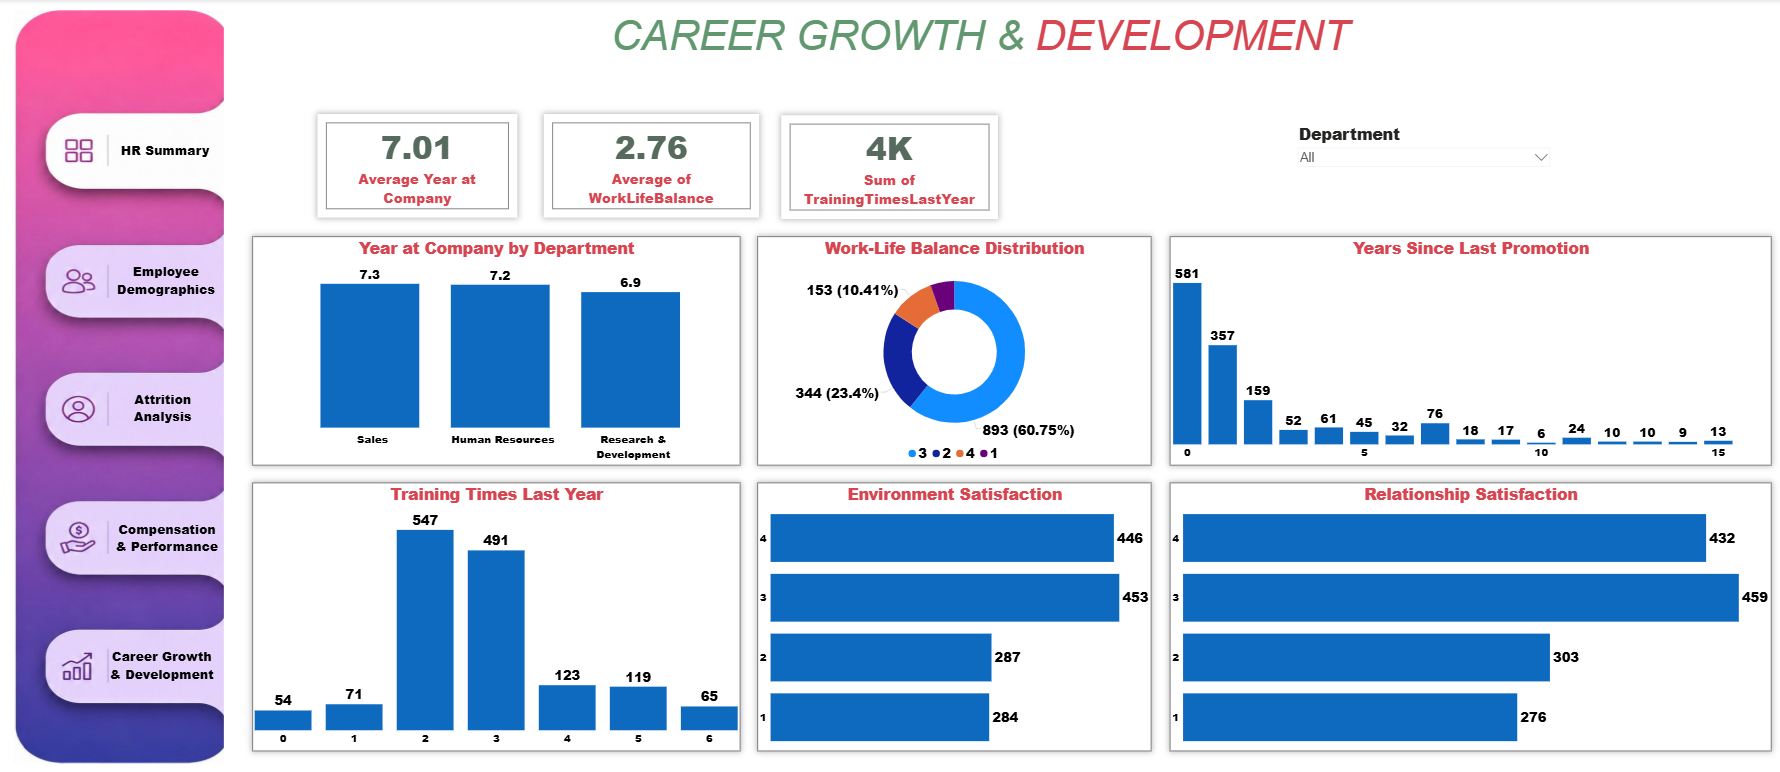

What the dashboard file says about the page in this screenshot:
{"tool":"powerbi","page":{"name":"Page 5","canvas":[4580,2000],"ordinal":4},"visuals":[{"type":"image","box":[36.7,29.4,540,1935.9],"z":0},{"type":"actionButton","box":[258.6,347.5,335.3,80.8],"z":1000},{"type":"actionButton","box":[258.6,662.6,339.4,121.2],"z":2000},{"type":"actionButton","box":[282.8,977.1,272,146.7],"z":3000},{"type":"actionButton","box":[282.8,1310,293.5,146.7],"z":4000},{"type":"textbox","box":[1179.1,28.9,2679.4,154.2],"z":5000},{"type":"actionButton","box":[269.9,1638.5,292.4,147.8],"z":6000},{"type":"cardVisual","fields":{"Data":["WA_Fn-UseC_-HR-Employee-Attrition.Average Year at Company"]},"box":[816.7,296.4,513.7,266.7],"z":7000},{"type":"cardVisual","fields":{"Data":["Avg(WA_Fn-UseC_-HR-Employee-Attrition.WorkLifeBalance)"]},"box":[1396.3,296.4,553.2,266.7],"z":8000},{"type":"cardVisual","fields":{"Data":["Sum(WA_Fn-UseC_-HR-Employee-Attrition.TrainingTimesLastYear)"]},"box":[2008.8,299.7,556.5,266.7],"z":9000},{"type":"clusteredColumnChart","title":"Year at Company by Department","fields":{"Category":["WA_Fn-UseC_-HR-Employee-Attrition.Department"],"Y":["WA_Fn-UseC_-HR-Employee-Attrition.Average Year at Company"]},"box":[648.8,611.4,1253.4,587.6],"z":10000},{"type":"donutChart","title":"Work-Life Balance Distribution","fields":{"Y":["CountNonNull(WA_Fn-UseC_-HR-Employee-Attrition.EmployeeCount)"],"Category":["WA_Fn-UseC_-HR-Employee-Attrition.WorkLifeBalance"]},"box":[1946.3,611.4,1012.2,587.6],"z":11000},{"type":"clusteredColumnChart","title":"Years Since Last Promotion","fields":{"Category":["WA_Fn-UseC_-HR-Employee-Attrition.YearsSinceLastPromotion"],"Y":["Sum(WA_Fn-UseC_-HR-Employee-Attrition.EmployeeCount)"]},"box":[3006.1,611.4,1545.5,587.6],"z":12000},{"type":"clusteredColumnChart","title":"Training Times Last Year","fields":{"Category":["WA_Fn-UseC_-HR-Employee-Attrition.TrainingTimesLastYear"],"Y":["Sum(WA_Fn-UseC_-HR-Employee-Attrition.EmployeeCount)"]},"box":[648.8,1243.2,1253.4,689.5],"z":13000},{"type":"barChart","title":"Environment Satisfaction","fields":{"Category":["WA_Fn-UseC_-HR-Employee-Attrition.EnvironmentSatisfaction"],"Y":["CountNonNull(WA_Fn-UseC_-HR-Employee-Attrition.EmployeeCount)"]},"box":[1946.3,1243.2,1012.2,689.5],"z":14000},{"type":"barChart","title":"Relationship Satisfaction","fields":{"Y":["CountNonNull(WA_Fn-UseC_-HR-Employee-Attrition.EmployeeCount)"],"Category":["WA_Fn-UseC_-HR-Employee-Attrition.RelationshipSatisfaction"]},"box":[3006.1,1243.2,1545.5,689.5],"z":15000},{"type":"slicer","fields":{"Values":["WA_Fn-UseC_-HR-Employee-Attrition.Department"]},"box":[3326,316.1,668.5,118.6],"z":16000}]}

Visuals, with their boxes in screenshot pixels (x1, y1, x2, y2), scaled from the page's 4580x2000 canvas onto the 1780x772 screenshot:
image: x1=14 y1=11 x2=224 y2=759
actionButton: x1=101 y1=134 x2=231 y2=165
actionButton: x1=101 y1=256 x2=232 y2=303
actionButton: x1=110 y1=377 x2=216 y2=434
actionButton: x1=110 y1=506 x2=224 y2=562
textbox: x1=458 y1=11 x2=1500 y2=71
actionButton: x1=105 y1=632 x2=219 y2=690
cardVisual - WA_Fn-UseC_-HR-Employee-Attrition.Average Year at Company: x1=317 y1=114 x2=517 y2=217
cardVisual - Avg(WA_Fn-UseC_-HR-Employee-Attrition.WorkLifeBalance): x1=543 y1=114 x2=758 y2=217
cardVisual - Sum(WA_Fn-UseC_-HR-Employee-Attrition.TrainingTimesLastYear): x1=781 y1=116 x2=997 y2=219
"Year at Company by Department" clusteredColumnChart: x1=252 y1=236 x2=739 y2=463
"Work-Life Balance Distribution" donutChart: x1=756 y1=236 x2=1150 y2=463
"Years Since Last Promotion" clusteredColumnChart: x1=1168 y1=236 x2=1769 y2=463
"Training Times Last Year" clusteredColumnChart: x1=252 y1=480 x2=739 y2=746
"Environment Satisfaction" barChart: x1=756 y1=480 x2=1150 y2=746
"Relationship Satisfaction" barChart: x1=1168 y1=480 x2=1769 y2=746
slicer - WA_Fn-UseC_-HR-Employee-Attrition.Department: x1=1293 y1=122 x2=1552 y2=168
